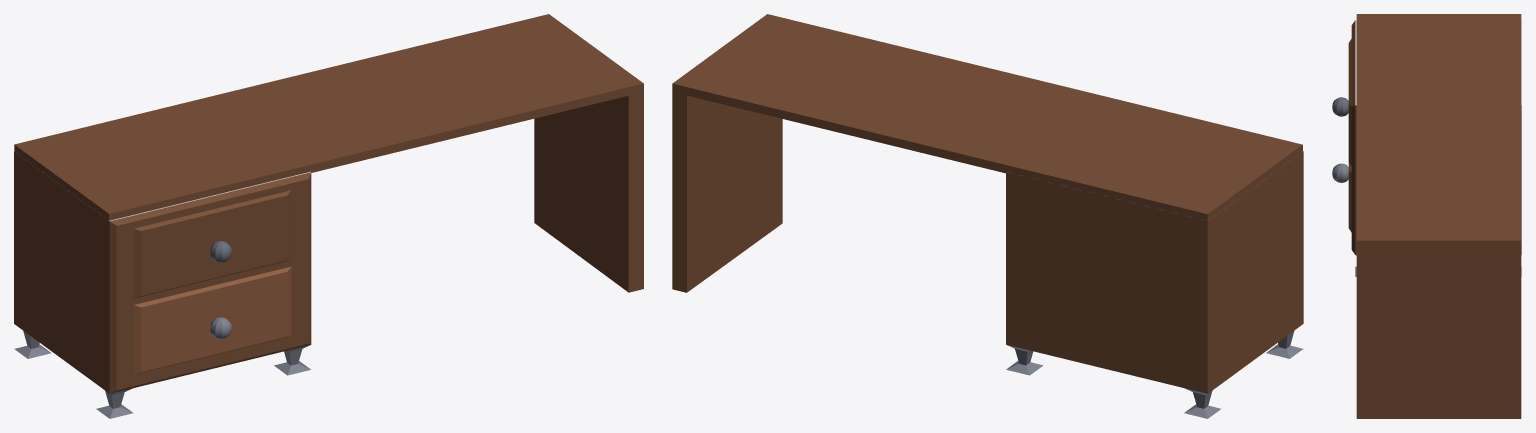
The model's file is escrivaninha.fbx.
The picture shows the model from 3 angles, left to right: view 1: azimuth 30°, elevation 25°; view 2: azimuth 150°, elevation 25°; view 3: azimuth 270°, elevation 25°; orthographic projection. The views are drawn at different scales.
Visible parts, largest first — view 1: Sphere.001, Sphere.005; view 2: Sphere.001; view 3: Sphere.001, Sphere.005.
Boxes of the visible parts, x1,y1,x2,y2 form: Sphere.001: [14, 14, 643, 418]; Sphere.005: [133, 190, 291, 374]; Sphere.001: [672, 14, 1303, 418]; Sphere.001: [1351, 14, 1521, 418]; Sphere.005: [1332, 39, 1351, 232].
Bounding box in the file's own units: 3.31 × 1.22 × 1.17.
